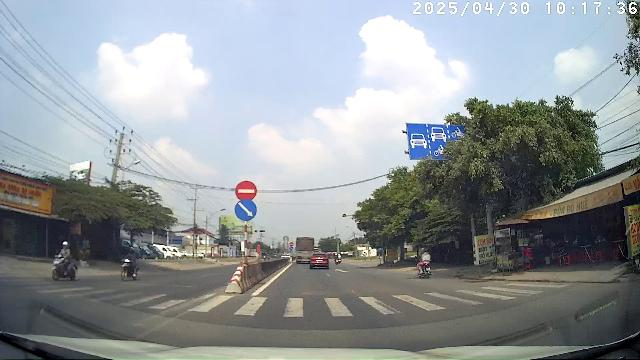102-cam-di-nguoc-chieu: (236, 180, 256, 200)
302a-huong-phai-di-vong-chuong-ngai-vat-1: (236, 200, 256, 221)
